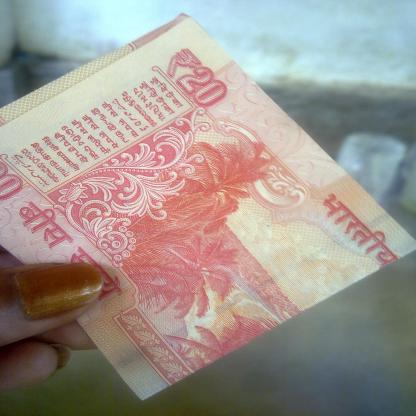Old20Back: (5, 21, 360, 383)
